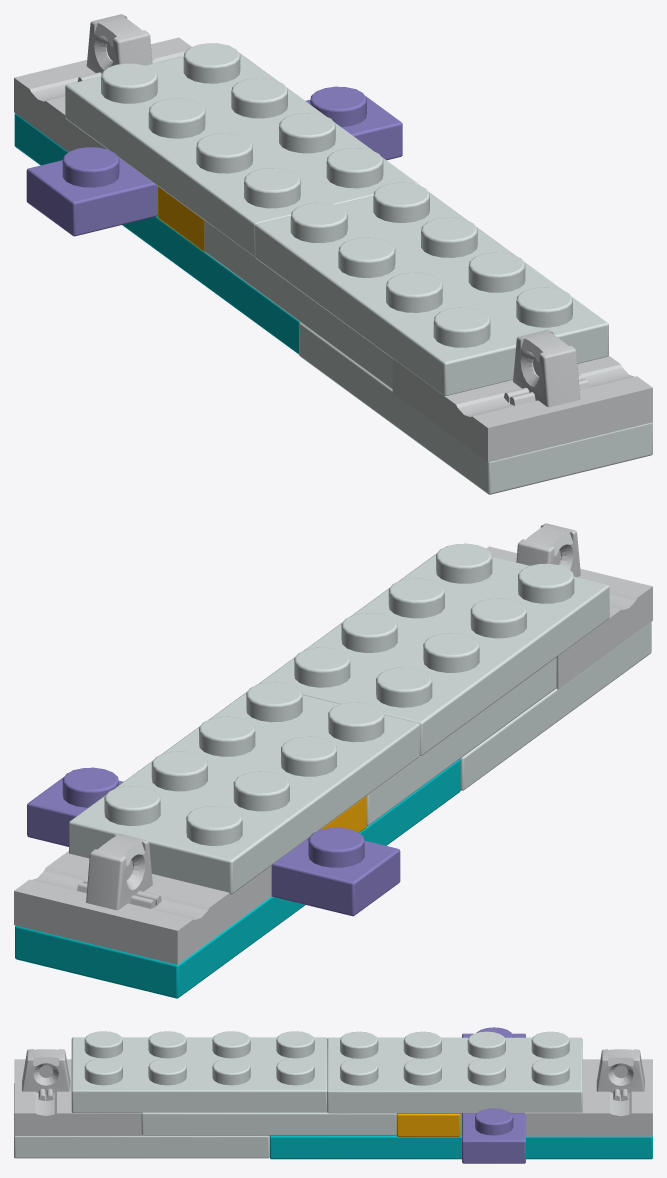
The model's file is Passo13.fbx.
3 renders of one model, top to bottom at view 1: azimuth 30°, elevation 25°; view 2: azimuth 150°, elevation 25°; view 3: azimuth 270°, elevation 25°, orthographic. The views are drawn at different scales.
Visible parts, largest first — view 1: Plate_2x4__2_, Plate_2x4__1_.001, Hinge_plate_2x2__1_.001, Plate_1x4.002, Plate_2x4__1__1, Hinge_plate_2x2.003, Plate_2x6.003, Plate_2x4.002, Plate_1x2.007; view 2: Plate_2x4__1_.001, Plate_2x4__2_, Hinge_plate_2x2.003, Plate_2x6.003, Plate_1x4.002, Hinge_plate_2x2__1_.001, Plate_2x4__1__1, Plate_2x4.002, Plate_1x2.007; view 3: Plate_2x4__2_, Plate_2x4__1_.001, Plate_2x6.003, Hinge_plate_2x2.003, Hinge_plate_2x2__1_.001, Plate_2x4.002, Plate_2x4__1__1, Plate_1x4.002, Plate_1x2.007.
Part boxes in pixels (box(x1,y1,x2,y2)): Plate_2x4__2_: box(255, 182, 608, 395); Plate_2x4__1_.001: box(65, 43, 418, 256); Hinge_plate_2x2__1_.001: box(392, 329, 652, 462); Plate_1x4.002: box(26, 86, 402, 236); Plate_2x4__1__1: box(299, 322, 652, 494); Hinge_plate_2x2.003: box(14, 14, 191, 151); Plate_2x6.003: box(14, 113, 300, 354); Plate_2x4.002: box(204, 220, 392, 389); Plate_1x2.007: box(158, 186, 204, 252); Plate_2x4__1_.001: box(69, 682, 419, 894); Plate_2x4__2_: box(259, 543, 609, 755); Hinge_plate_2x2.003: box(14, 833, 271, 964); Plate_2x6.003: box(15, 759, 460, 998); Plate_1x4.002: box(27, 767, 400, 916); Hinge_plate_2x2__1_.001: box(486, 523, 652, 689); Plate_2x4__1__1: box(460, 622, 651, 790); Plate_2x4.002: box(366, 657, 556, 825); Plate_1x2.007: box(321, 796, 366, 832); Plate_2x4__2_: box(71, 1031, 327, 1112); Plate_2x4__1_.001: box(327, 1031, 582, 1113); Plate_2x6.003: box(269, 1113, 652, 1159); Hinge_plate_2x2.003: box(525, 1049, 652, 1136); Hinge_plate_2x2__1_.001: box(14, 1049, 141, 1136); Plate_2x4.002: box(141, 1112, 396, 1135); Plate_2x4__1__1: box(14, 1083, 269, 1158); Plate_1x4.002: box(462, 1027, 525, 1163); Plate_1x2.007: box(396, 1113, 460, 1136).
Bounding box in the file's own units: 0.3199 × 0.1101 × 0.8002.
